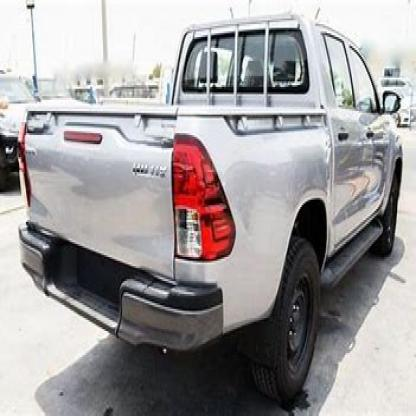light_vehicle: (11, 7, 398, 398)
